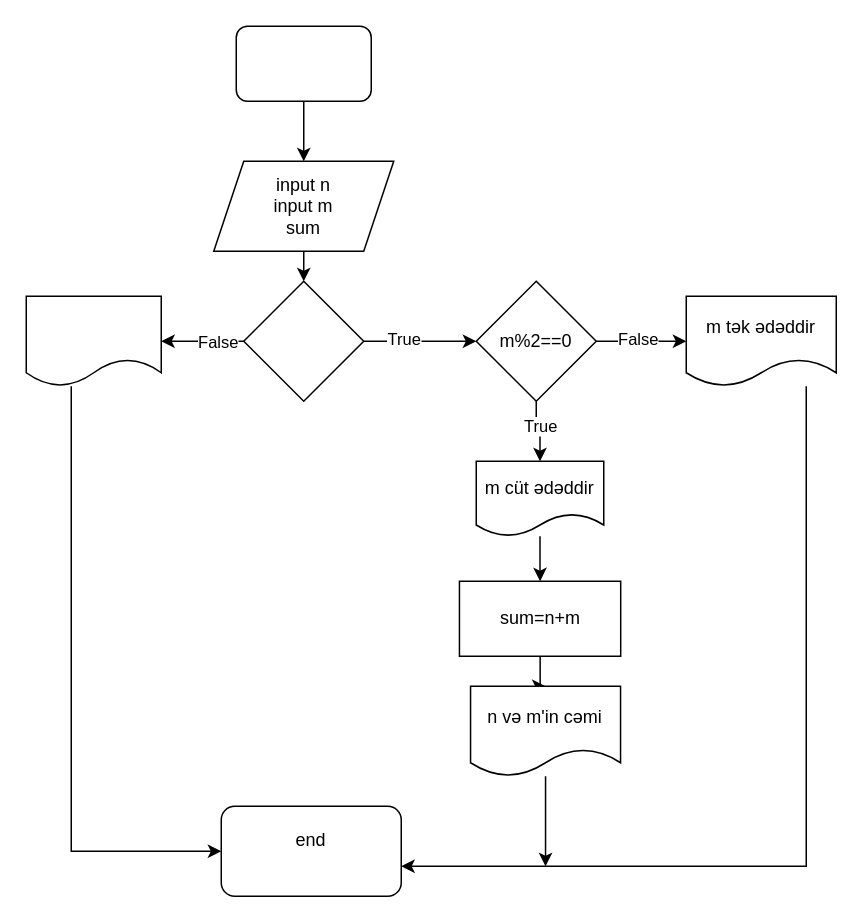
This 863x923 diagram has some shape labels left out. Each missing label, with the centre of its shape:
n tək ədəddir: point (93, 340)
n%2==0: point (303, 340)
Start: point (303, 63)
